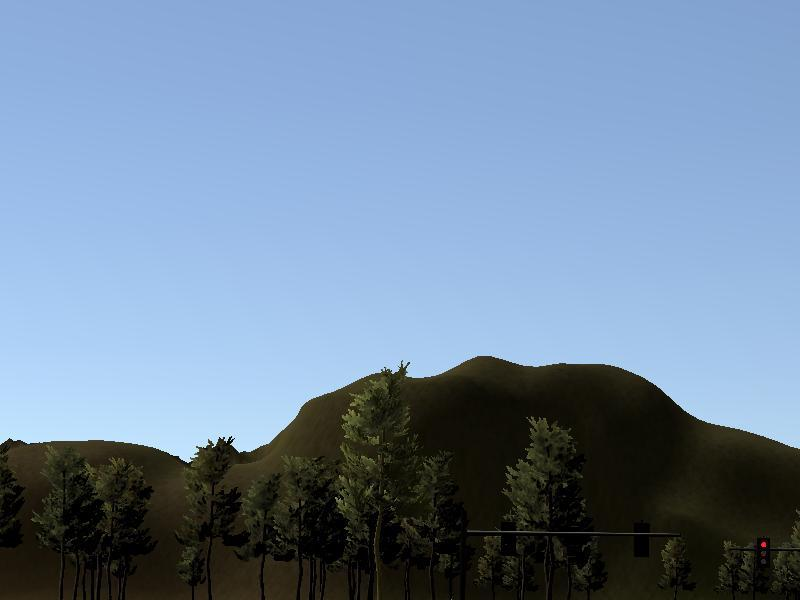Red: (756, 538, 771, 569)
